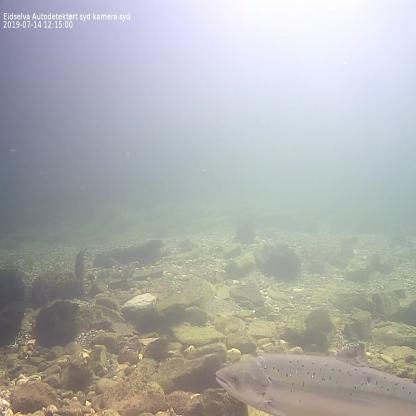salmon: (212, 338, 416, 414)
